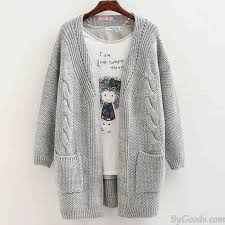S_cardigan sweater: (35, 17, 186, 218)
